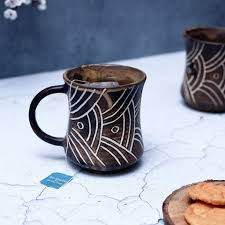mug: (22, 58, 157, 176)
